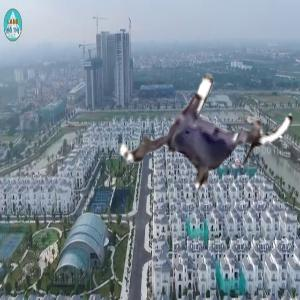drone: (120, 53, 291, 224)
